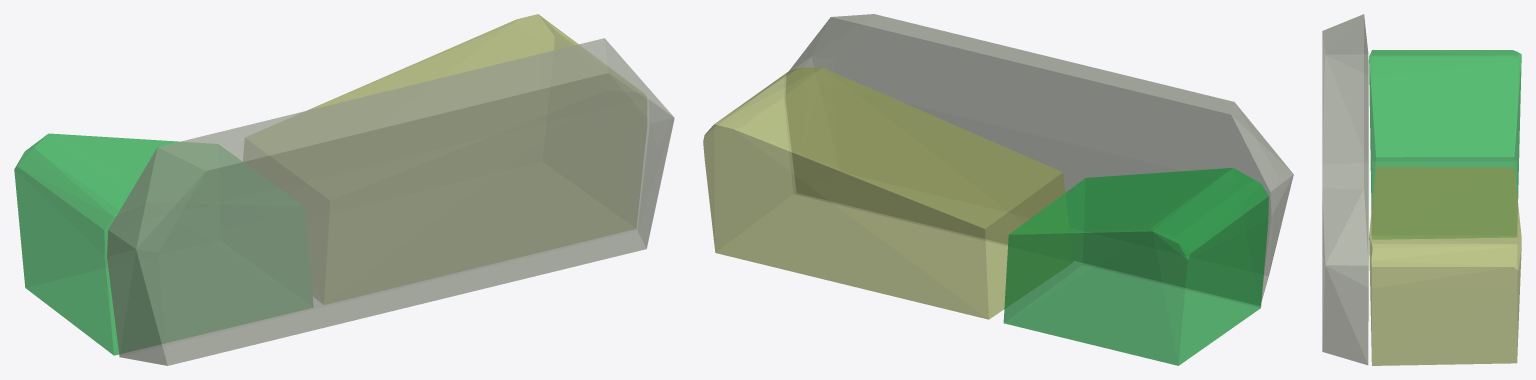
3 renders of one model, left to right at view 1: azimuth 30°, elevation 25°; view 2: azimuth 150°, elevation 25°; view 3: azimuth 270°, elevation 25°, orthographic. The views are drawn at different scales.
Parts seen in each view (by area): view 1: Shape_IndexedFaceSet, Shape_IndexedFaceSet.002, Shape_IndexedFaceSet.001; view 2: Shape_IndexedFaceSet, Shape_IndexedFaceSet.002, Shape_IndexedFaceSet.001; view 3: Shape_IndexedFaceSet.002, Shape_IndexedFaceSet.001, Shape_IndexedFaceSet.
Part boxes in pixels (x1=…): Shape_IndexedFaceSet: x1=107, y1=38, x2=674, y2=365; Shape_IndexedFaceSet.002: x1=243, y1=14, x2=646, y2=304; Shape_IndexedFaceSet.001: x1=14, y1=133, x2=312, y2=355; Shape_IndexedFaceSet: x1=786, y1=14, x2=1293, y2=305; Shape_IndexedFaceSet.002: x1=703, y1=67, x2=1072, y2=319; Shape_IndexedFaceSet.001: x1=1003, y1=167, x2=1268, y2=365; Shape_IndexedFaceSet.002: x1=1369, y1=167, x2=1521, y2=365; Shape_IndexedFaceSet.001: x1=1369, y1=50, x2=1521, y2=238; Shape_IndexedFaceSet: x1=1322, y1=14, x2=1368, y2=365.
Bounding box in the file's own units: 0.8774 × 0.3141 × 0.3485.
